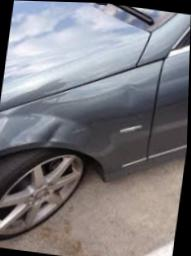Bonnet: (0, 33, 128, 111)
Fender: (0, 73, 122, 181)
